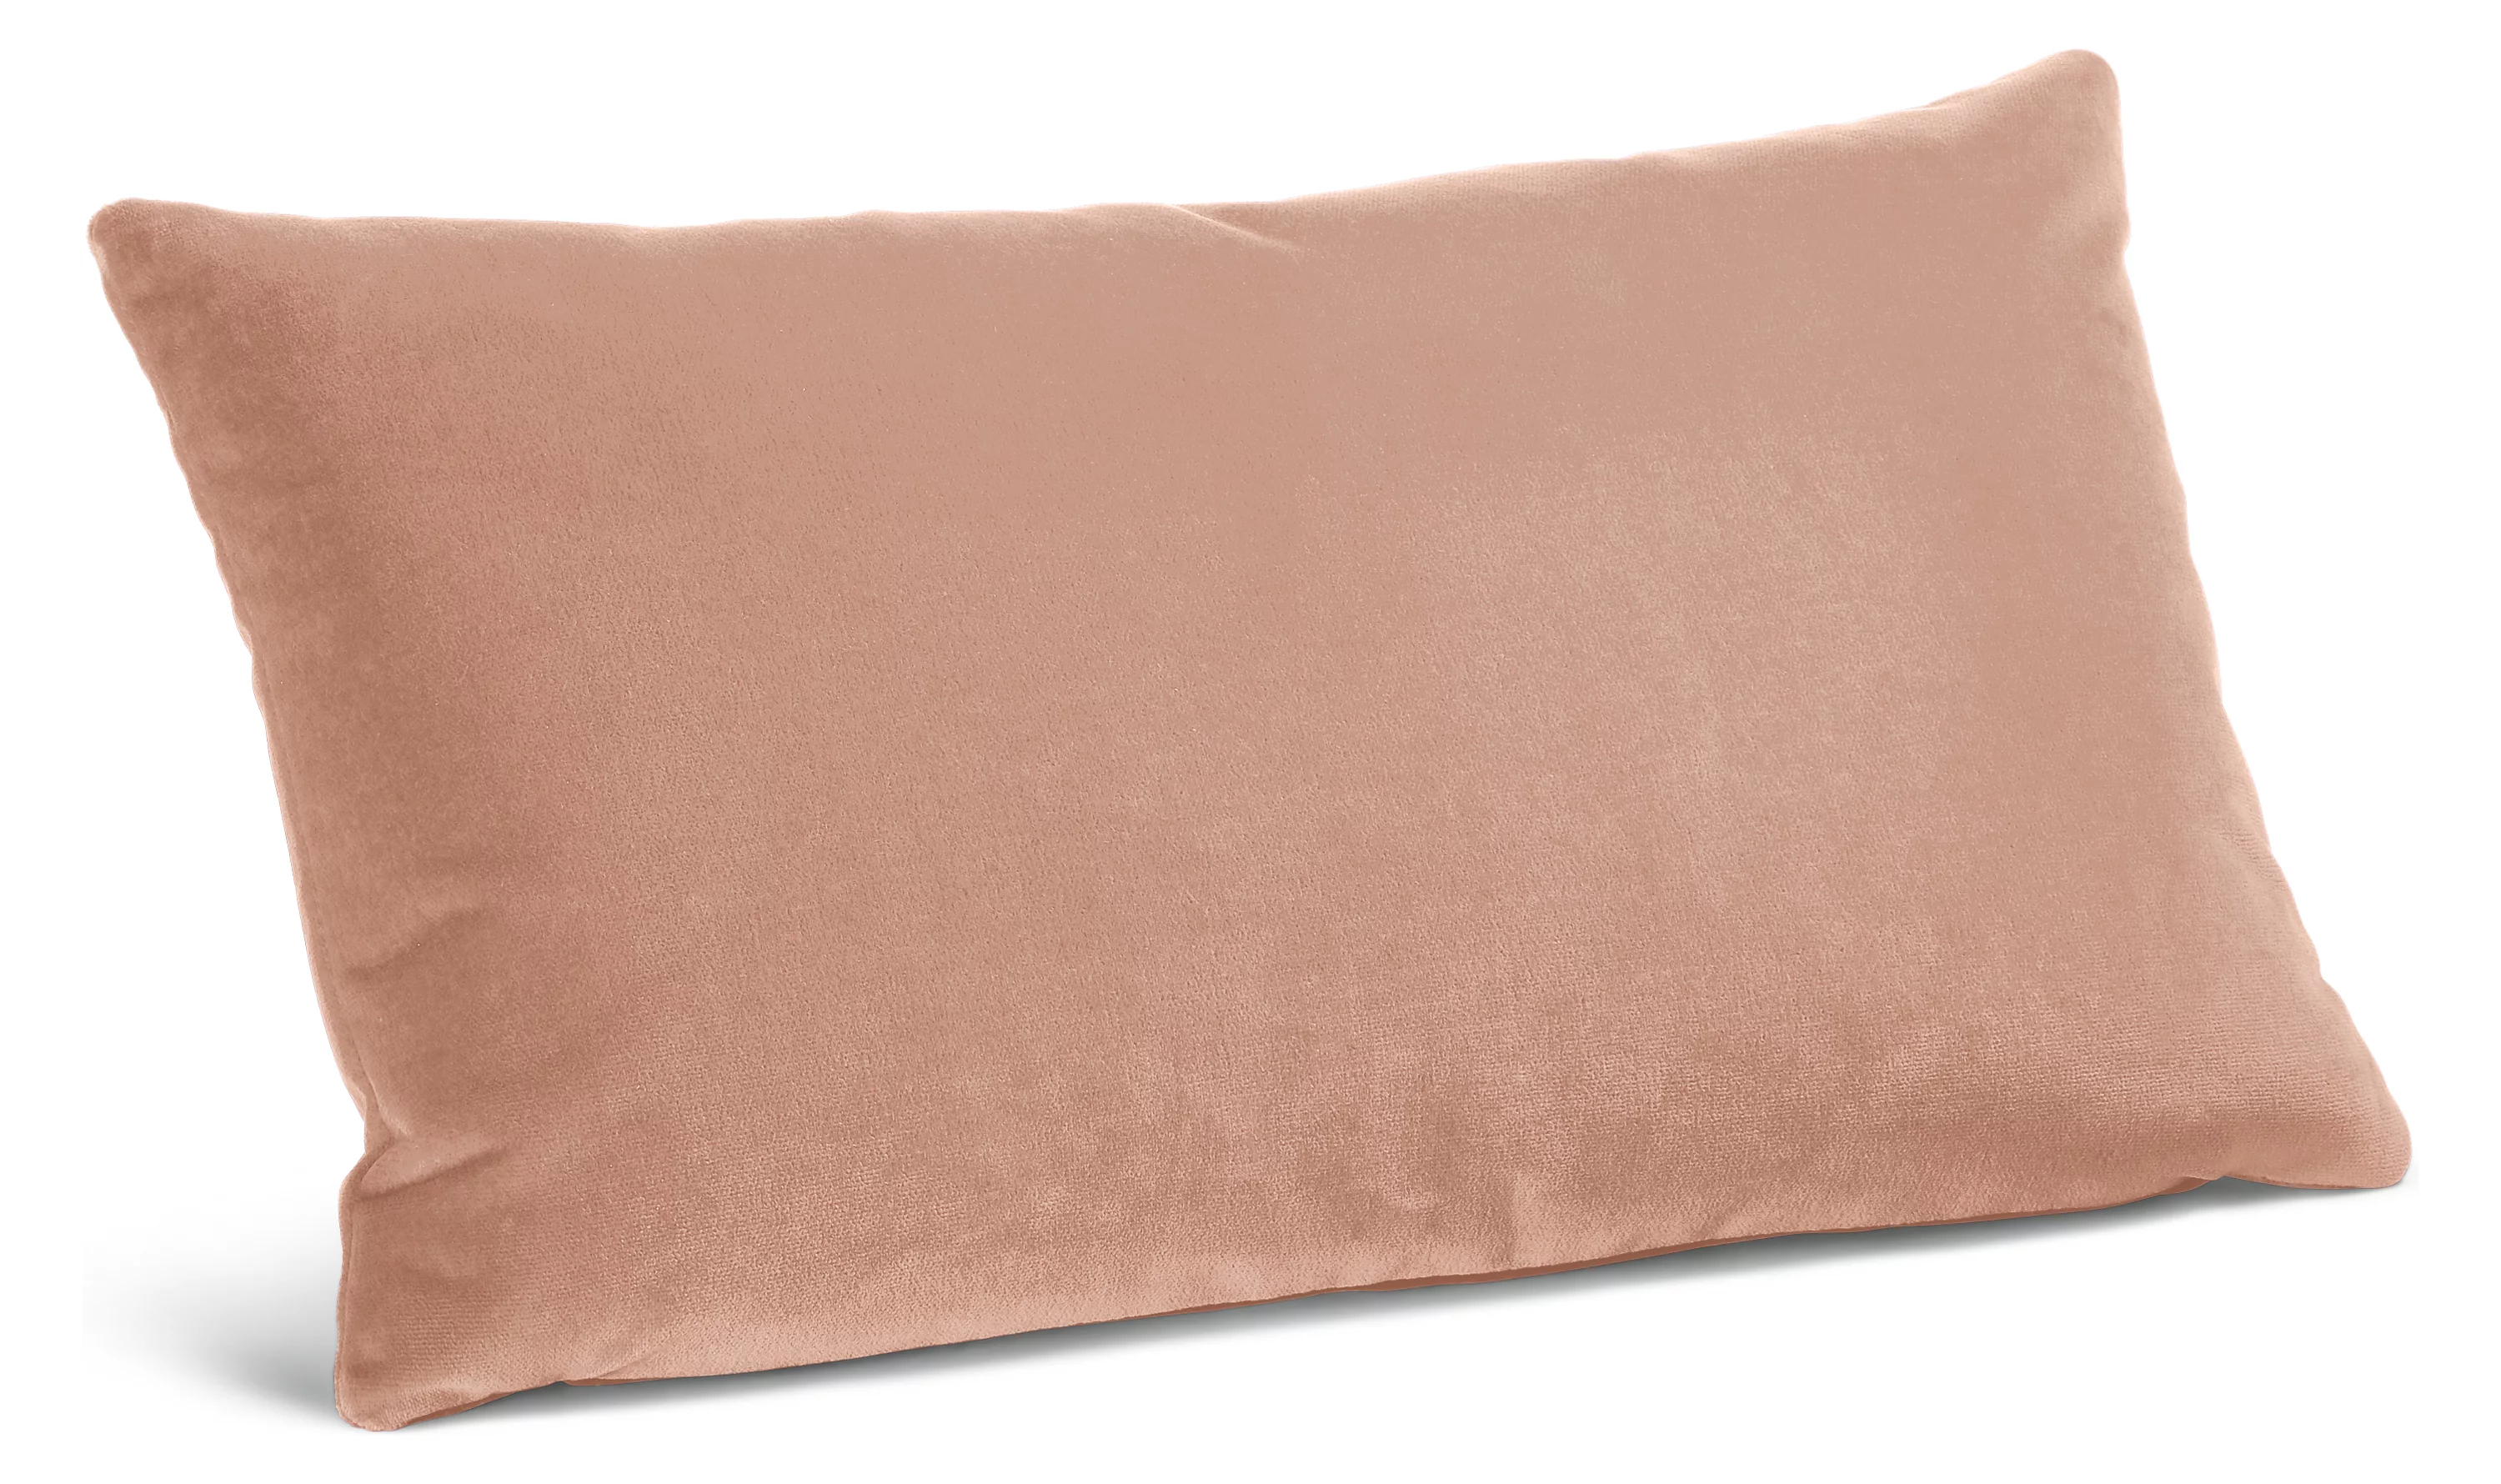bantal: (90, 193, 2418, 1194)
